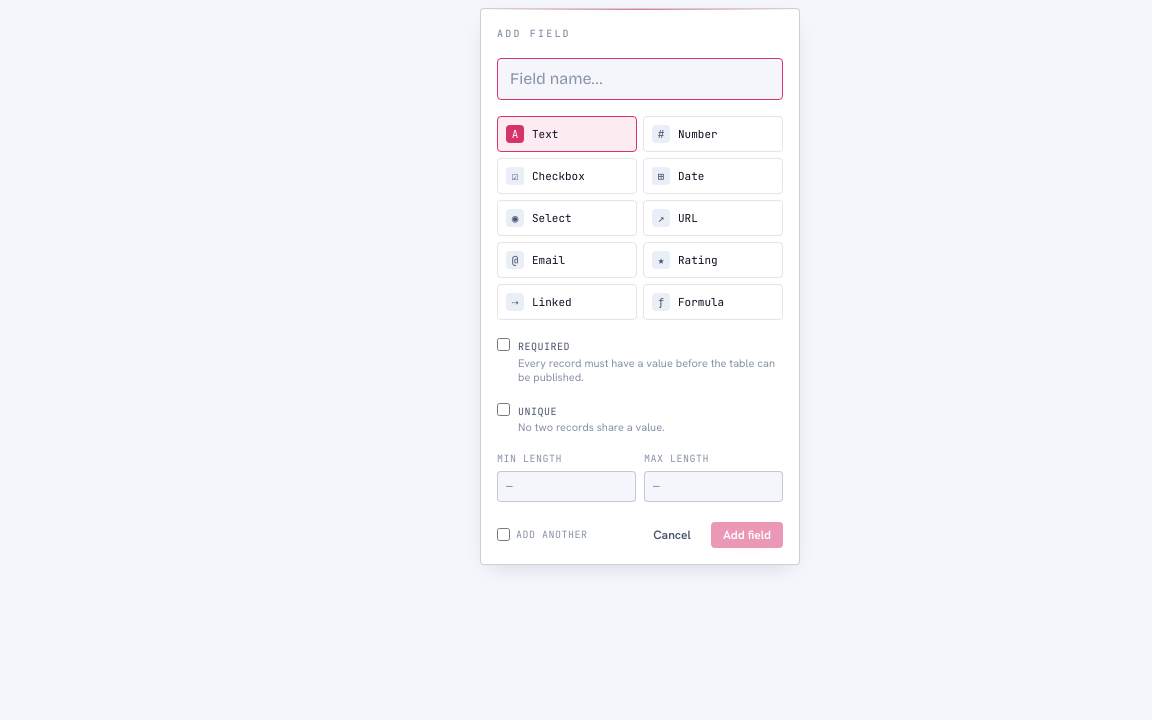
Scenario: AddFieldPopover validation › announces a validation error via role=alert on submit (#161)
The width and height of the screenshot is (1152, 720).
Type "Owner" into the field with placeholder "Field name…".
click(640, 79); type("Owner")  # box x1=497 y1=58 x2=783 y2=100
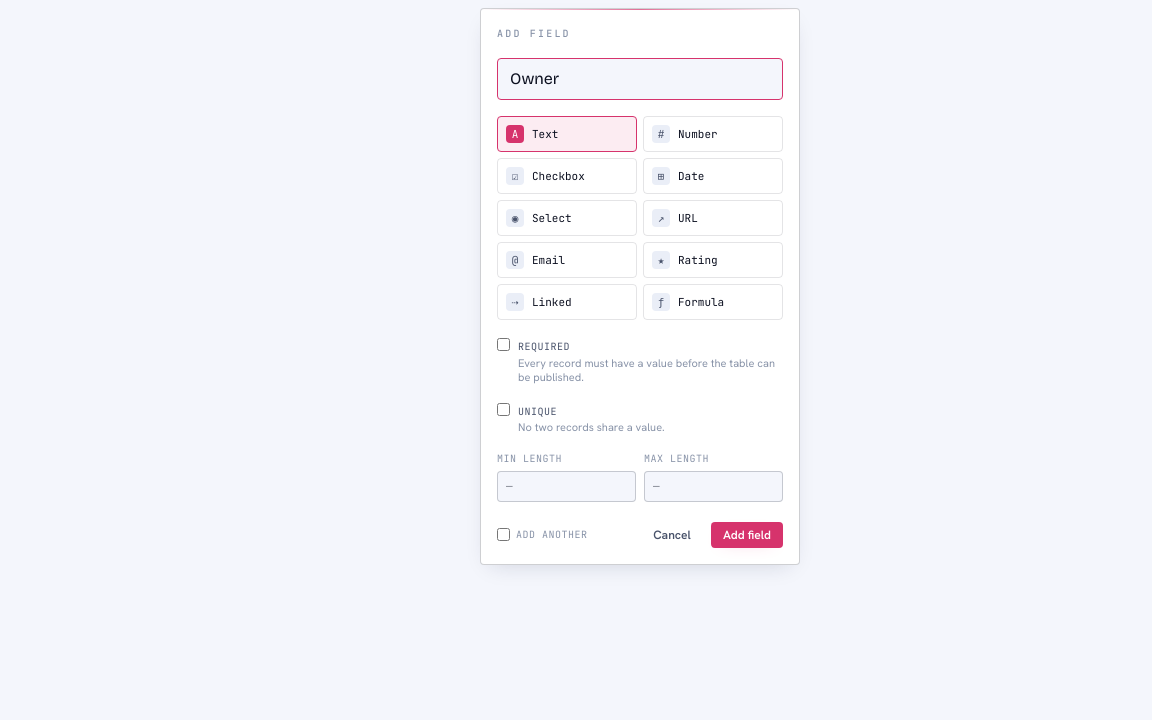
# Linked type with no target selected → "Pick the table…" validation error.
Click the text "Linked".
click(552, 302)  # box x1=532 y1=294 x2=572 y2=311
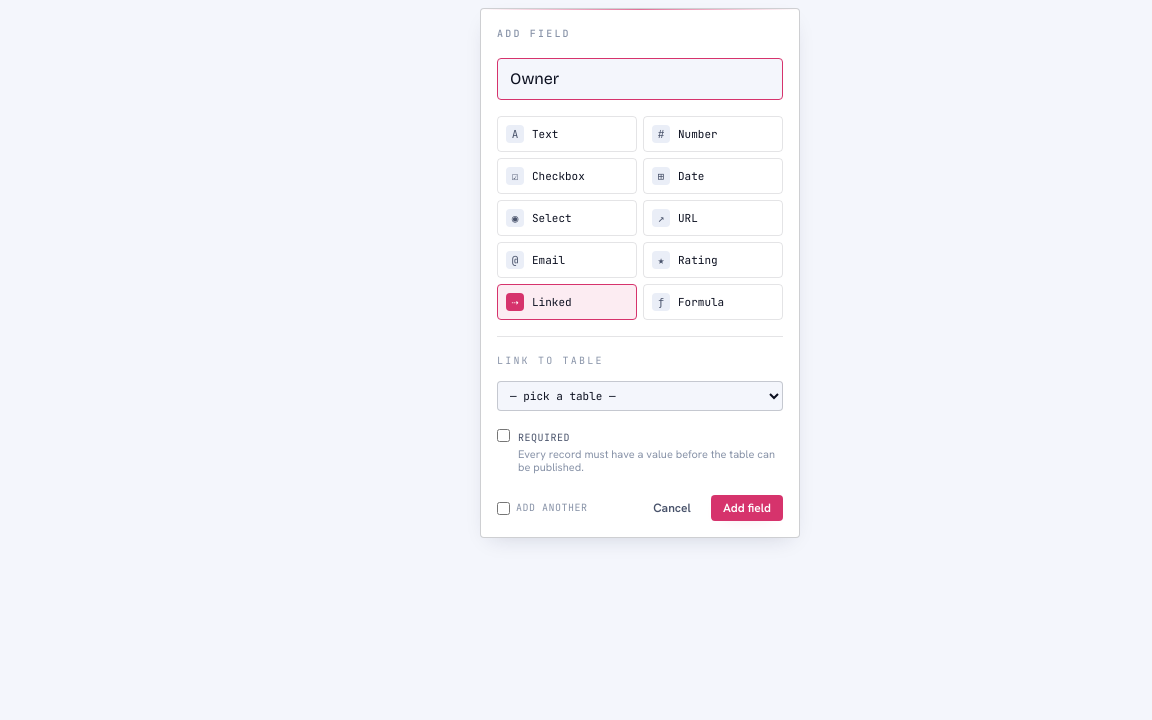
Click the button "Add field".
click(747, 508)  # box x1=711 y1=495 x2=783 y2=521
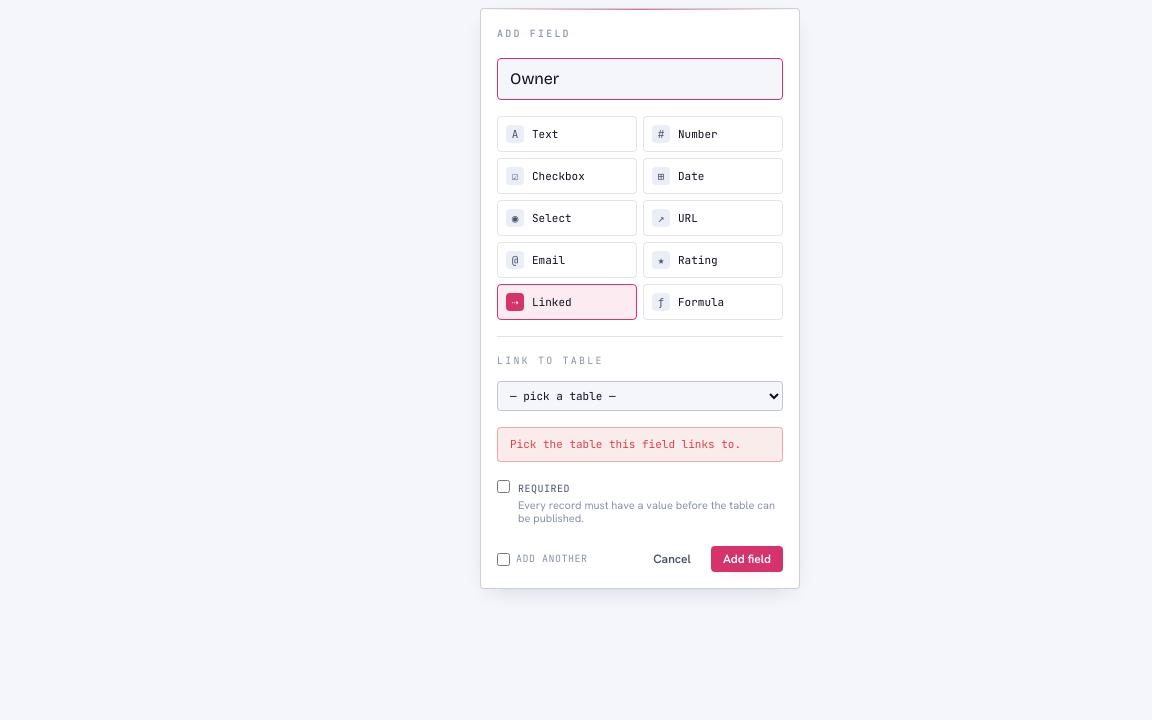
Now the message shows "Pick the table", box x1=510 y1=437 x2=741 y2=451
